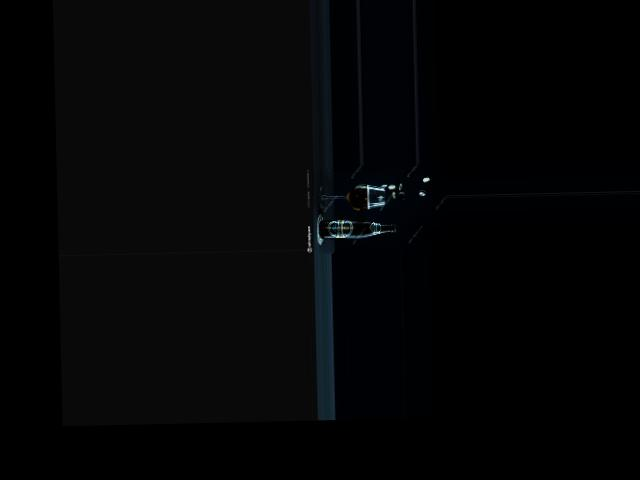beer: (320, 218, 395, 238)
